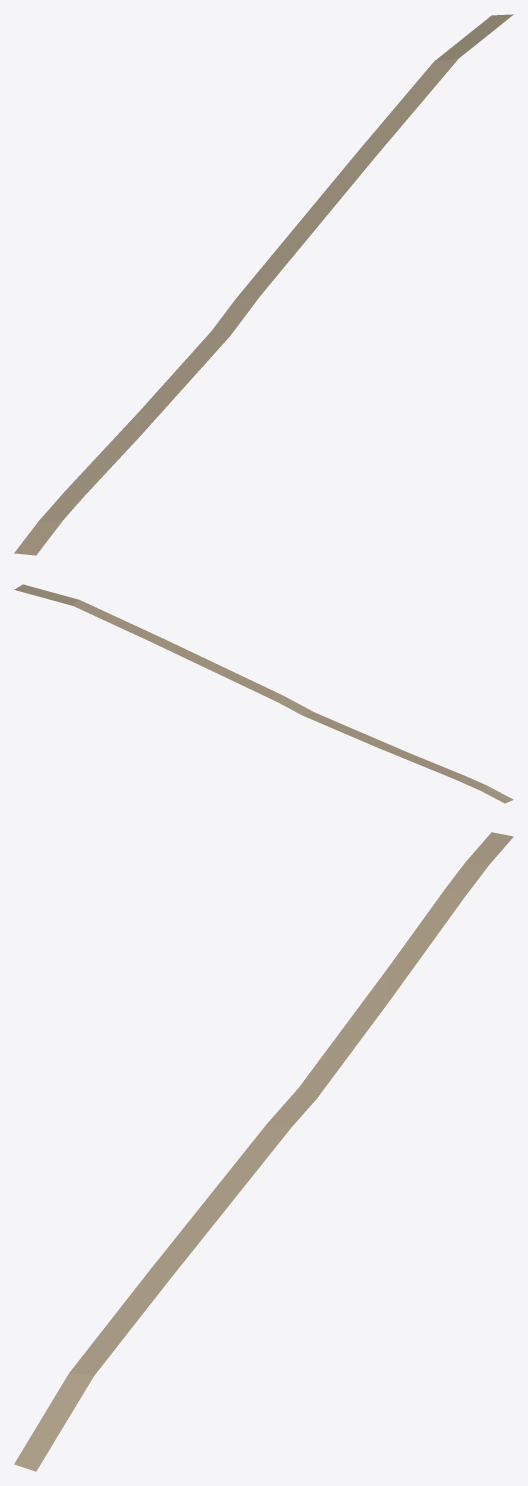
The model's file is farm_-5_-1_track.glb.
3 views of the same model, one above another, from view 1: azimuth 90°, elevation 25°; view 2: azimuth 150°, elevation 25°; view 3: azimuth 270°, elevation 25° (orthographic). The views are drawn at different scales.
Parts seen in each view (by area): view 1: geometry_0; view 2: geometry_0; view 3: geometry_0.
Part boxes in pixels (box(x1,y1,x2,y2)): geometry_0: box(14, 14, 513, 555); geometry_0: box(14, 584, 513, 803); geometry_0: box(14, 832, 513, 1471).
Bounding box in the file's own units: 194 × 7.97 × 69.57.
